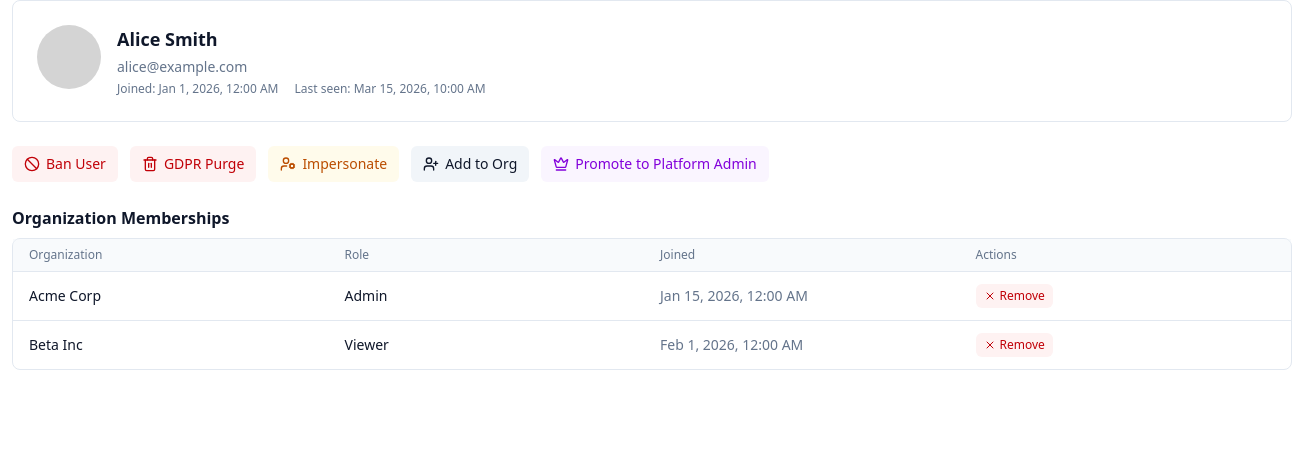
UserDetail › clears impersonation token on clear button click
Click the button with test id "impersonate-btn". click: (334, 164)
box: [268,146,399,182]
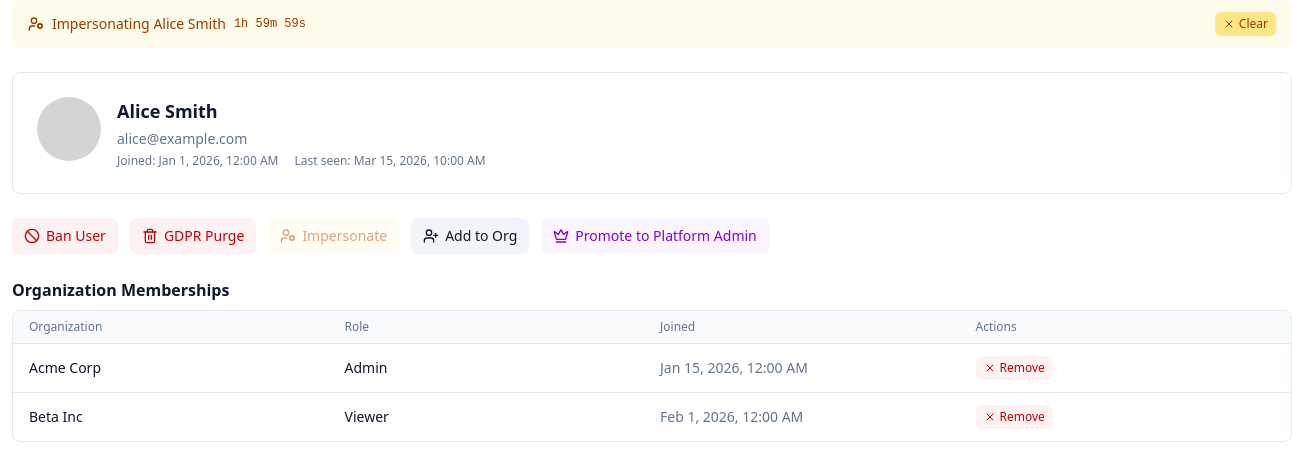
Expected: the button with test id "impersonation-clear-btn" is shown
Click the button with test id "impersonation-clear-btn". click: (1245, 24)
box: [1215,12,1276,36]
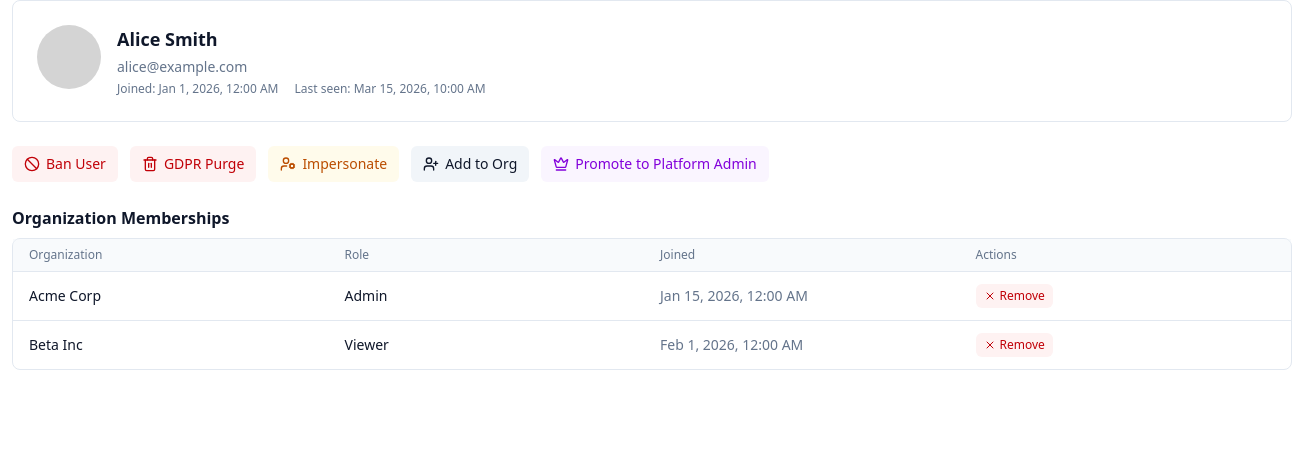
Expected: the element with test id "impersonation-active" is gone
